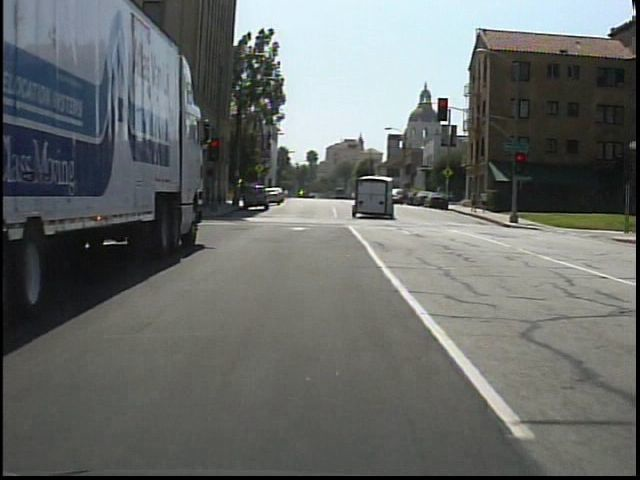person: (479, 187, 492, 213), (468, 186, 480, 213)
